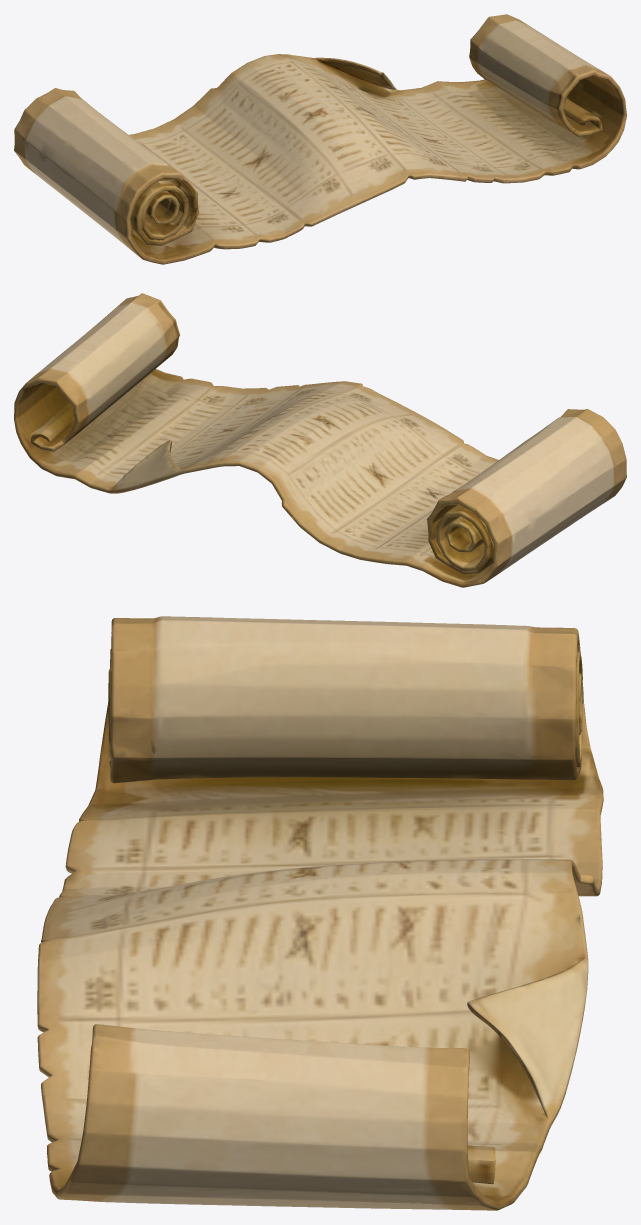
File: open_scroll.glb
The picture shows the model from 3 angles, top to bottom: view 1: azimuth 30°, elevation 25°; view 2: azimuth 150°, elevation 25°; view 3: azimuth 270°, elevation 25°; orthographic projection. The views are drawn at different scales.
Parts seen in each view (by area): view 1: node_0; view 2: node_0; view 3: node_0.
Boxes of the visible parts, left/top/right/bottom form: node_0: left=14, top=14, right=626, bottom=264; node_0: left=14, top=293, right=626, bottom=587; node_0: left=37, top=616, right=603, bottom=1210.
Size of the model in its own units: 1.11 by 0.1938 by 0.5502.
Materials: 1 (1 with a texture image).
